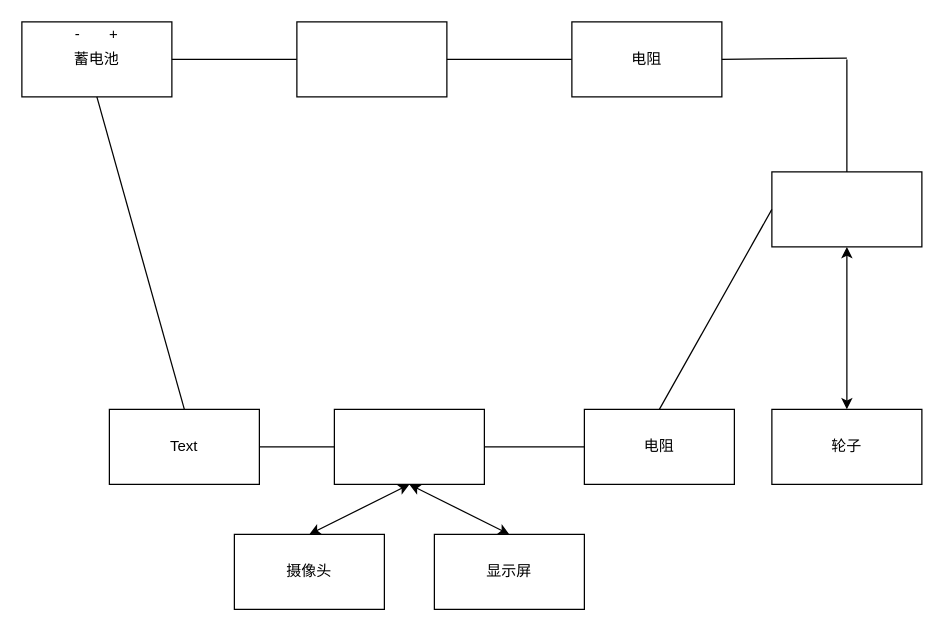
This 944x631 diagram has some shape labels left out. The shapes that lost their labels are listed below. From the top down, each one's centre as x and y in pixels, then its label:
At point (371, 59): "开关".
At point (846, 209): "arduino 主控板".
At point (408, 446): "树莓派 主控板".
